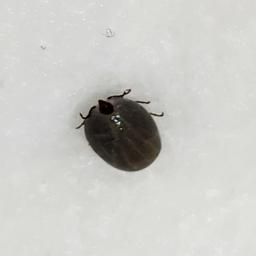Rhipicephalus sanguineus: (77, 87, 165, 173)
